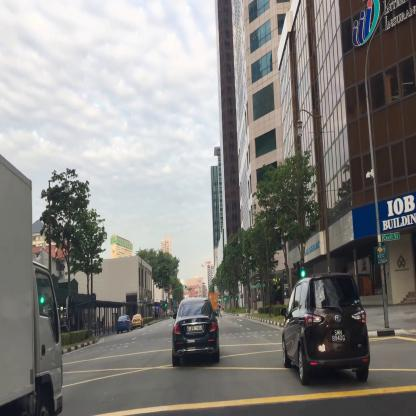green_traffic_light: (300, 258, 305, 276)
